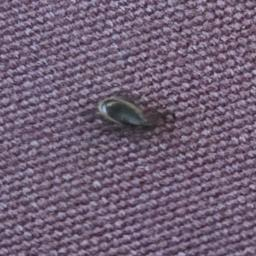Ixodes scapularis: (86, 94, 177, 143)
